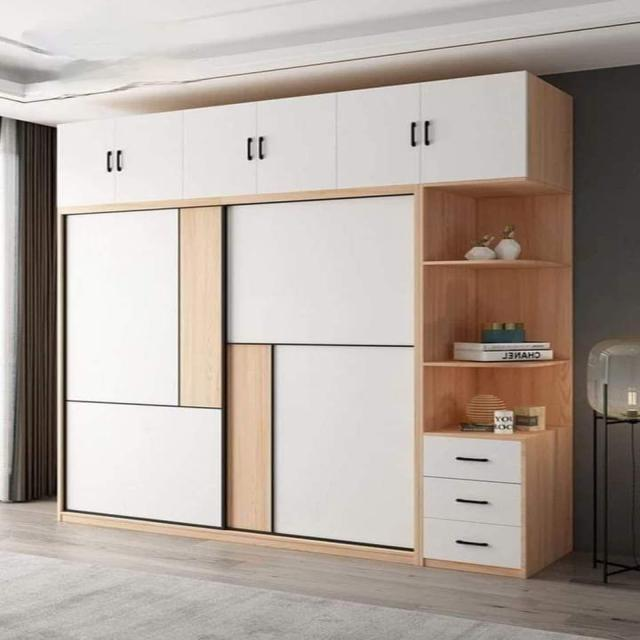door: (222, 192, 418, 554), (58, 205, 215, 532)
obstacle: (55, 78, 578, 200), (422, 432, 570, 572)
